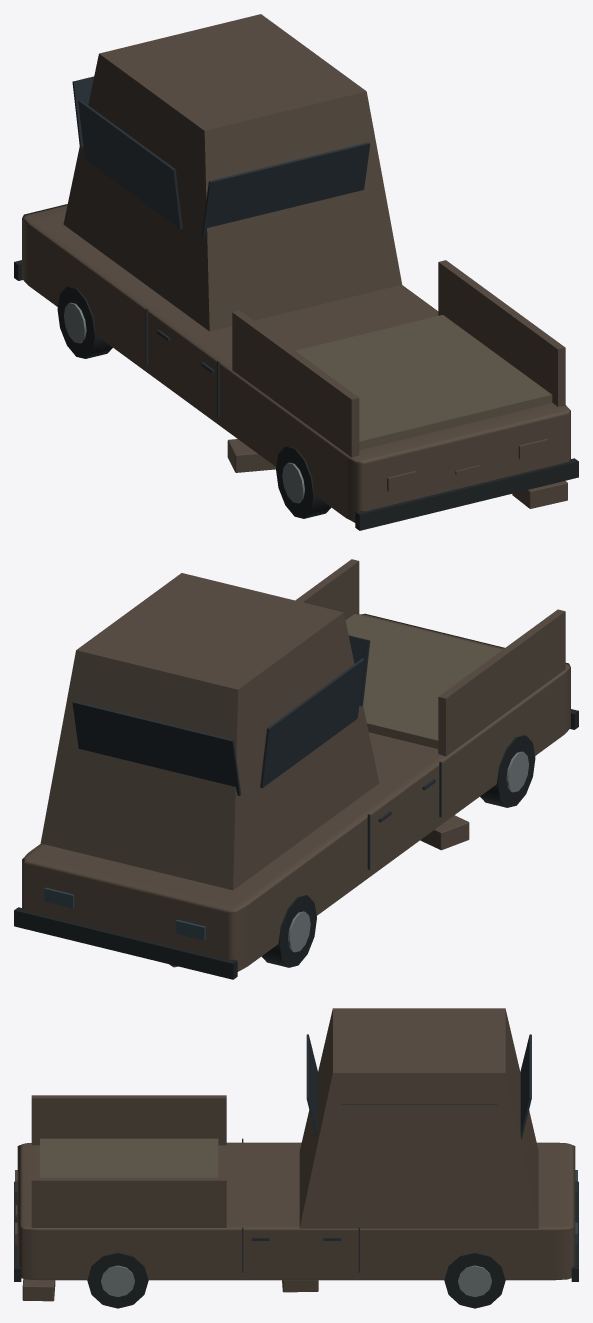
The model's file is small-truck-wreck-2.glb.
The picture shows the model from 3 angles, top to bottom: view 1: azimuth 30°, elevation 25°; view 2: azimuth 150°, elevation 25°; view 3: azimuth 270°, elevation 25°; orthographic projection. The views are drawn at different scales.
Visible parts, largest first — view 1: small-truck-wreck/1/KR-230-2; view 2: small-truck-wreck/1/KR-230-2; view 3: small-truck-wreck/1/KR-230-2.
Part boxes in pixels (box(x1,y1,x2,y2)): small-truck-wreck/1/KR-230-2: box(14, 14, 578, 530); small-truck-wreck/1/KR-230-2: box(14, 559, 578, 979); small-truck-wreck/1/KR-230-2: box(14, 1008, 578, 1308).
Bounding box in the file's own units: 2.41 × 2.8 × 6.28.
